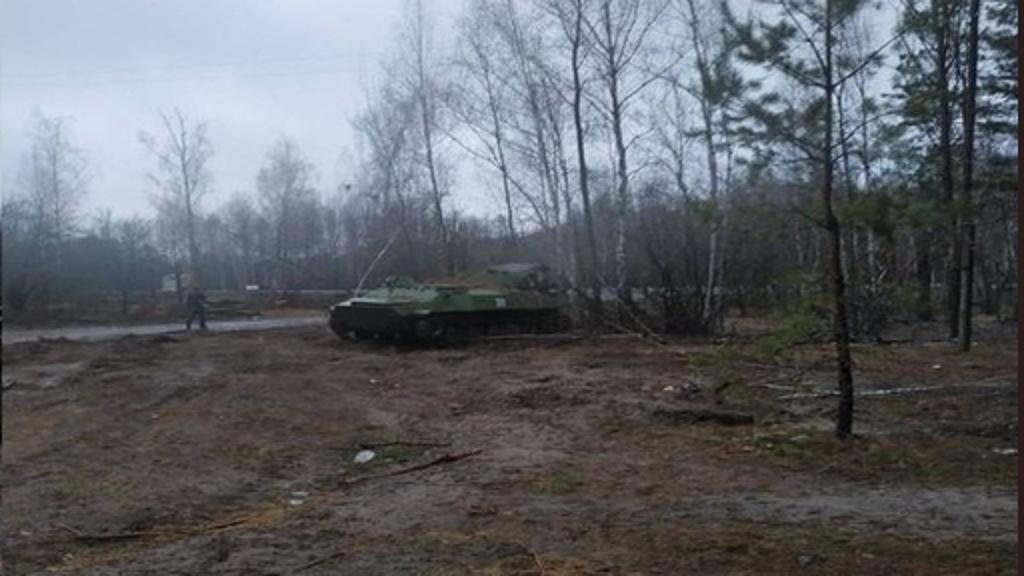APC-IFV: (324, 260, 574, 356)
